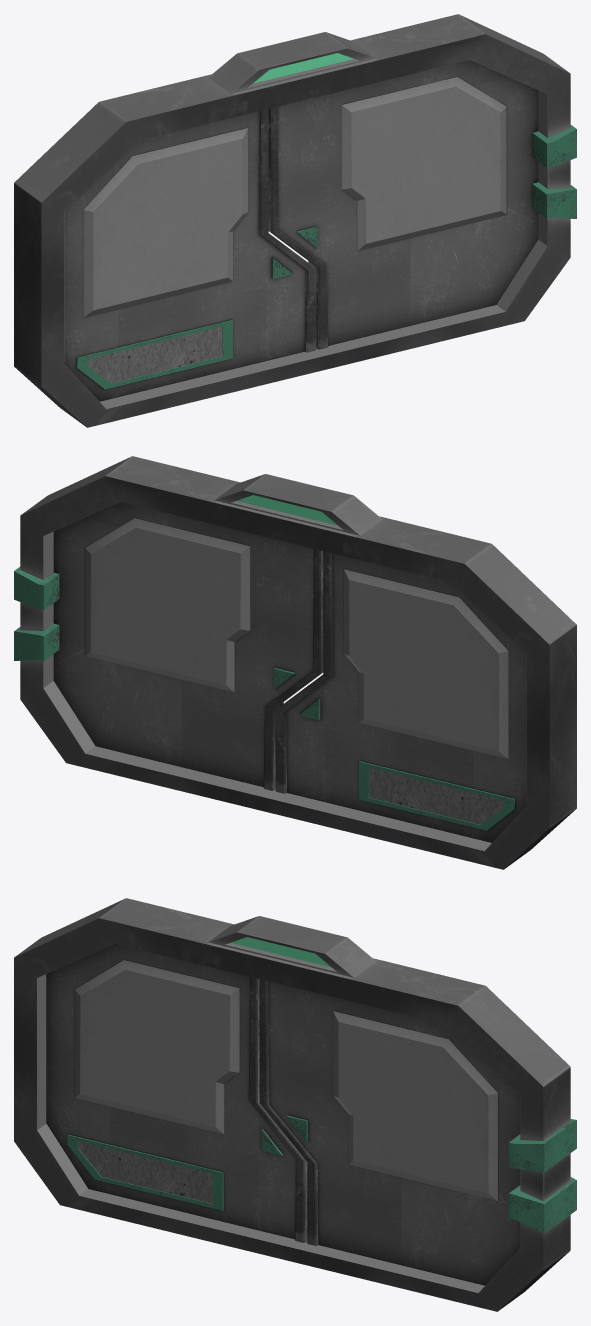
File: PORTONDEACCESO.glb
3 renders of one model, top to bottom at view 1: azimuth 30°, elevation 25°; view 2: azimuth 150°, elevation 25°; view 3: azimuth 330°, elevation 25°, orthographic.
Visible parts, largest first — view 1: pCube16, pCube8, pCube15; view 2: pCube16, pCube8, pCube15; view 3: pCube8, pCube16, pCube15.
Part boxes in pixels (<box>): pCube16: <box>268,60,538,349</box>; pCube8: <box>14,14,576,427</box>; pCube15: <box>64,109,316,401</box>; pCube16: <box>53,502,323,790</box>; pCube8: <box>14,456,576,869</box>; pCube15: <box>275,551,526,842</box>; pCube8: <box>14,898,576,1311</box>; pCube16: <box>259,979,520,1285</box>; pCube15: <box>46,944,307,1242</box>.
Size of the model in its own units: 5.85 by 3.29 by 0.7265.
Materials: 1 (1 with a texture image).
